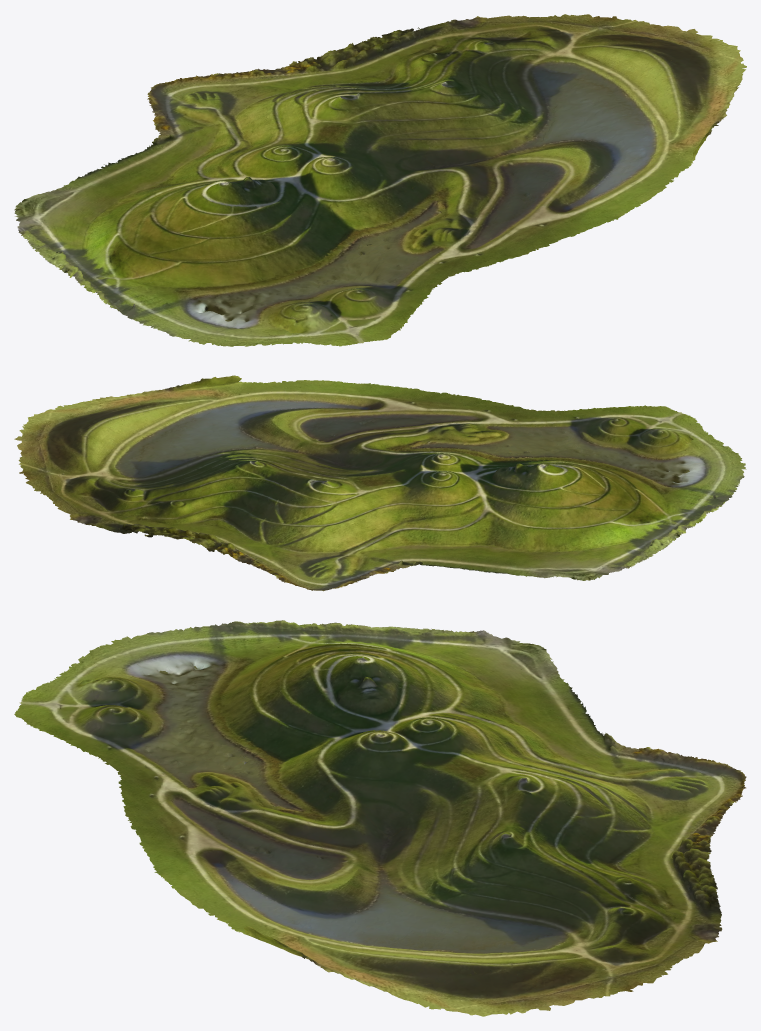
The picture shows the model from 3 angles, top to bottom: view 1: azimuth 30°, elevation 25°; view 2: azimuth 150°, elevation 25°; view 3: azimuth 270°, elevation 25°; orthographic projection. The views are drawn at different scales.
Bounding box in the file's own units: 47.04 × 3.4 × 36.36.
Materials: 1 (1 with a texture image).
